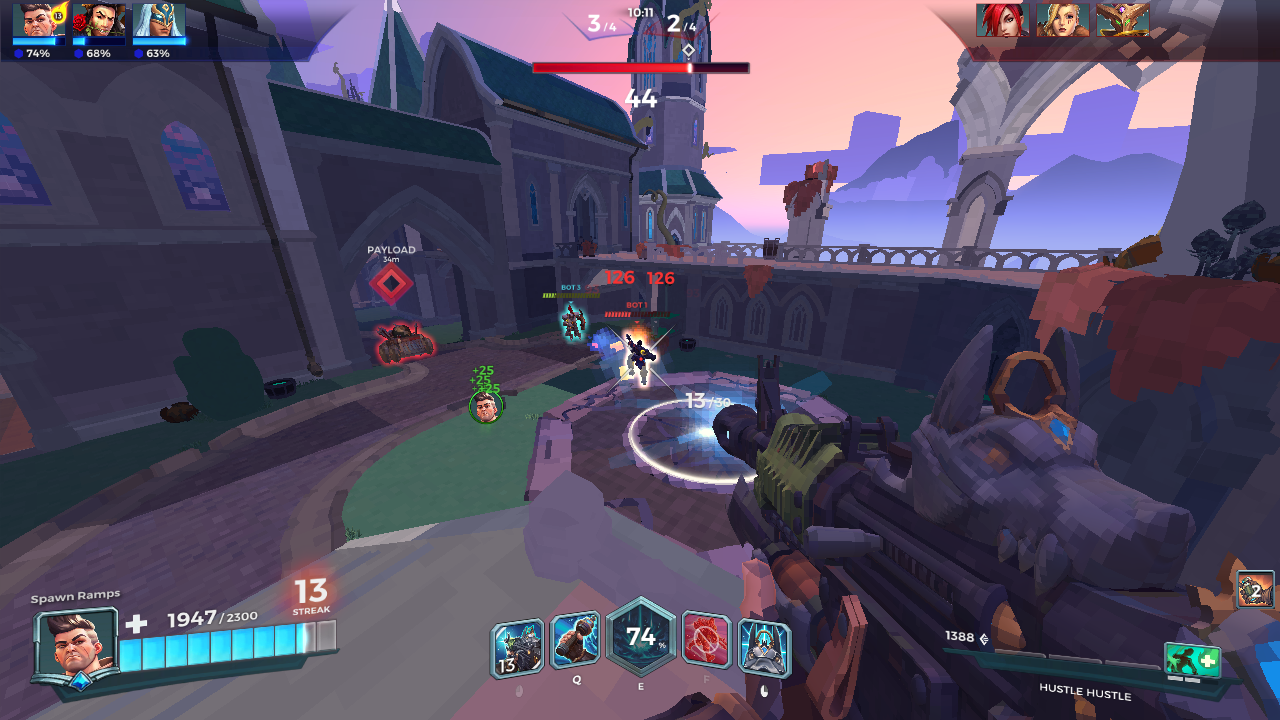model: (619, 327, 656, 387)
